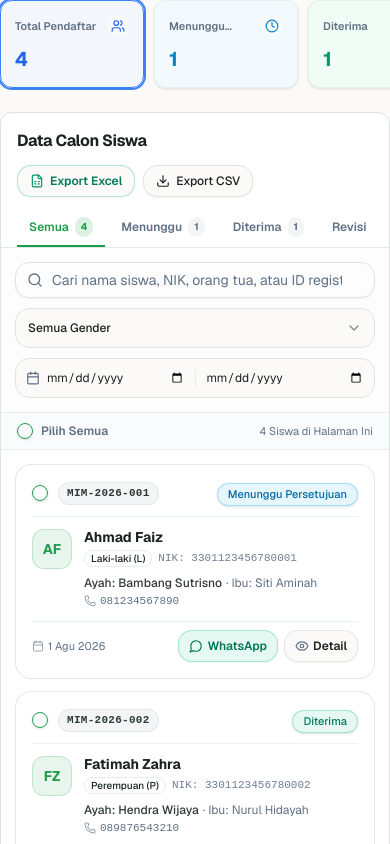
Scenario: Admin PendaftarTable Component › opens WhatsApp quick modal when clicking WhatsApp on table row
Click the button with aria-label "kirim pesan whatsapp": (228, 646) [178,630,278,662]
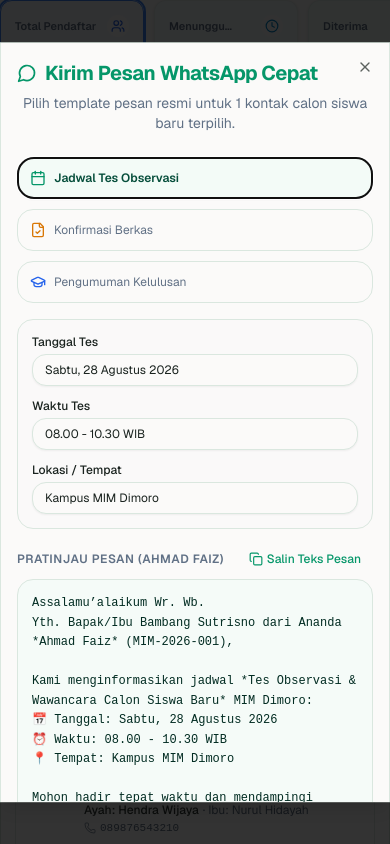
Check: the heading "Kirim Pesan WhatsApp Cepat" is shown, box [45,59,318,87]
